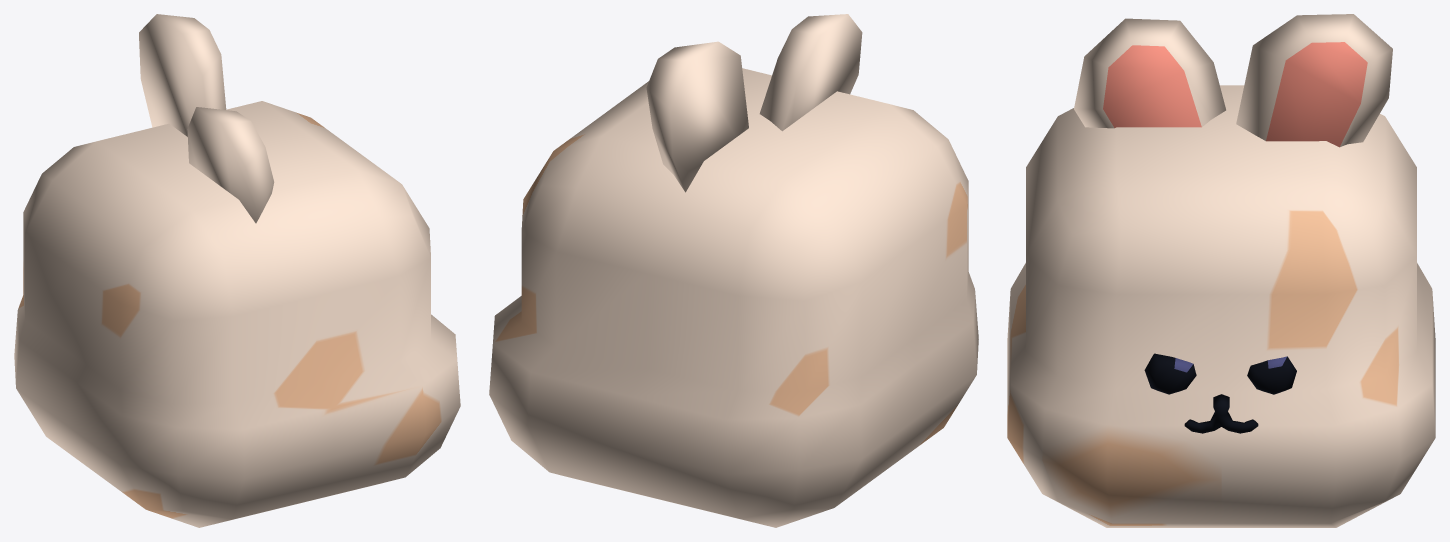
File: Bunny1.fbx
3 views of the same model, side by side, from view 1: azimuth 30°, elevation 25°; view 2: azimuth 150°, elevation 25°; view 3: azimuth 270°, elevation 25° (orthographic). The views are drawn at different scales.
Visible parts, largest first — view 1: Bunny1; view 2: Bunny1; view 3: Bunny1.
Part boxes in pixels (x1,y1,x2,y2): Bunny1: (14, 14, 460, 527); Bunny1: (489, 14, 978, 527); Bunny1: (1007, 14, 1435, 527).
Size of the model in its own units: 202 by 234 by 200.
